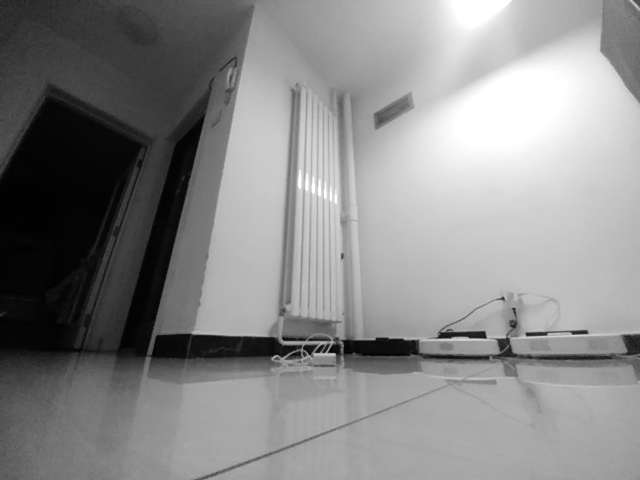wire: (270, 332, 334, 368)
